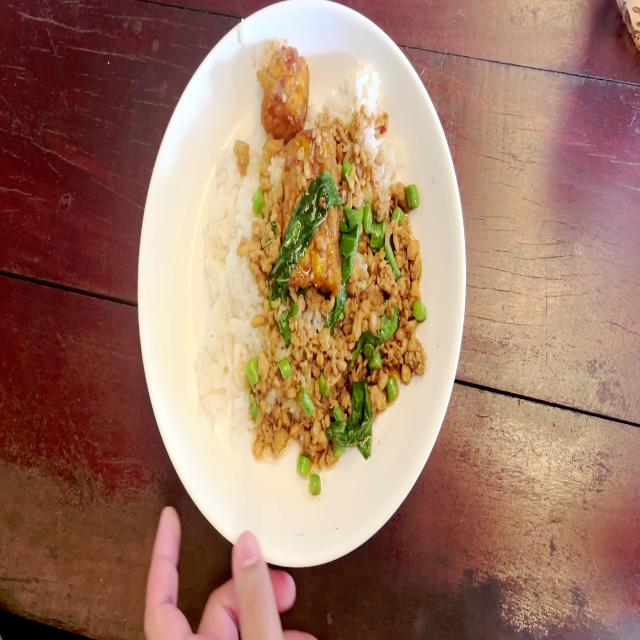fried_tofo: (281, 134, 340, 290), (257, 52, 312, 134)
minced_pork: (258, 299, 426, 475), (339, 120, 425, 304), (261, 158, 280, 297)
rice: (207, 145, 259, 426), (326, 51, 382, 124)
stir_fried_basil: (204, 43, 428, 502)
